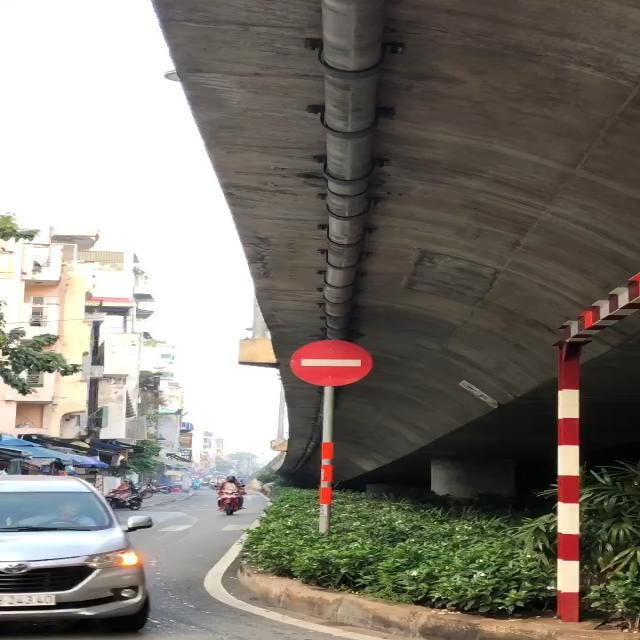Bien bao cam di nguoc chieu: (285, 332, 377, 390)
